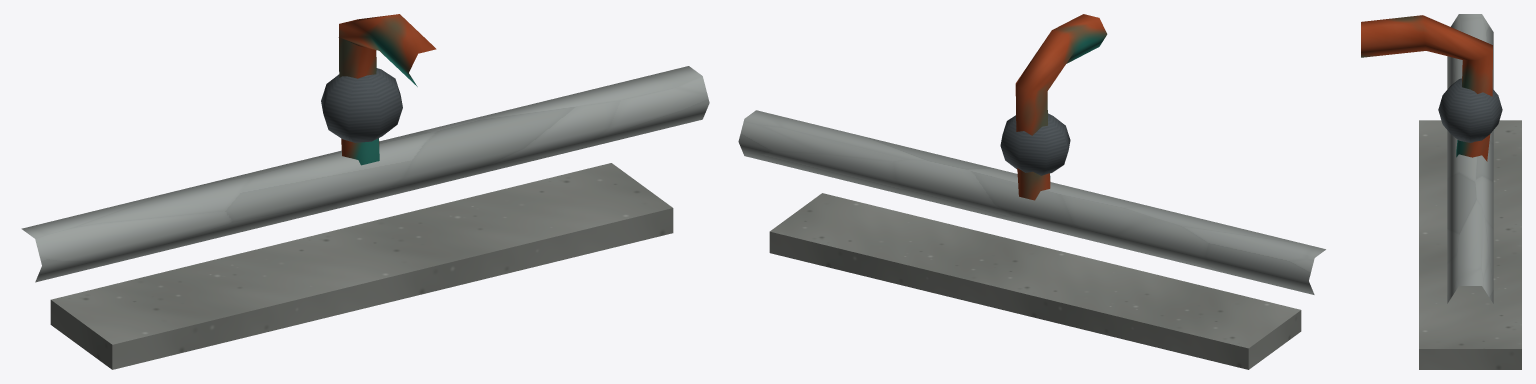
File: service-valve-manifold.lod2.gltf
3 views of the same model, side by side, from view 1: azimuth 30°, elevation 25°; view 2: azimuth 150°, elevation 25°; view 3: azimuth 270°, elevation 25° (orthographic). The views are drawn at different scales.
Parts seen in each view (by area): view 1: service-valve-manifold; view 2: service-valve-manifold; view 3: service-valve-manifold.
Part boxes in pixels (<box>): service-valve-manifold: <box>21,14,709,369</box>; service-valve-manifold: <box>738,14,1325,369</box>; service-valve-manifold: <box>1361,14,1521,369</box>.
Bounding box in the file's own units: 5 × 2.03 × 1.25.
Materials: 4 (4 with a texture image).
